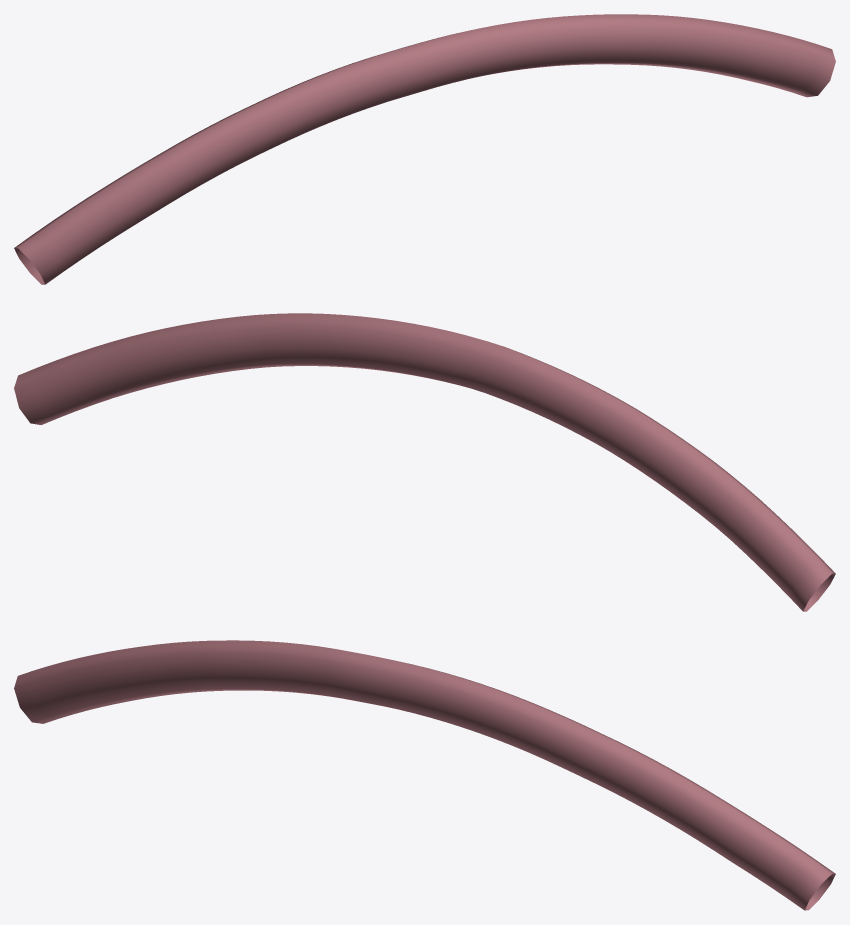
Rendered from female_mouth_ref03_v5.glb.
The picture shows the model from 3 angles, top to bottom: view 1: azimuth 30°, elevation 25°; view 2: azimuth 150°, elevation 25°; view 3: azimuth 330°, elevation 25°; orthographic projection.
Parts seen in each view (by area): view 1: Mouth_Lip; view 2: Mouth_Lip; view 3: Mouth_Lip.
Part boxes in pixels (<box>): Mouth_Lip: <box>14,14,835,284</box>; Mouth_Lip: <box>14,313,835,611</box>; Mouth_Lip: <box>14,640,835,910</box>.
Bounding box in the file's own units: 0.0886 × 0.0178 × 0.00808.
